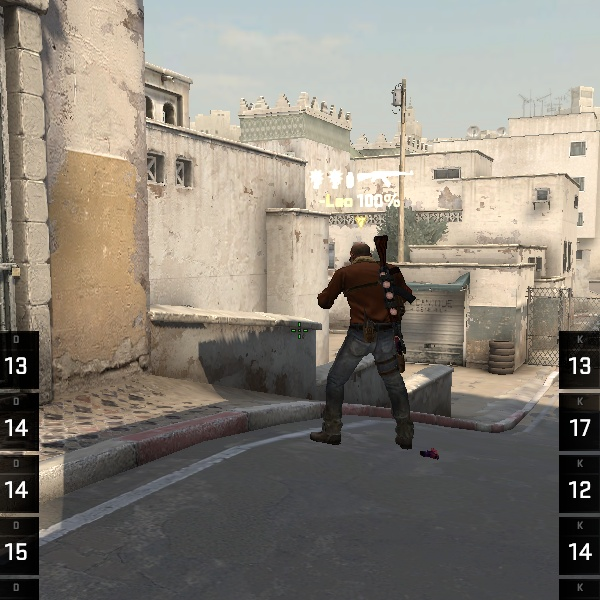t_body: (305, 229, 437, 463)
t_head: (348, 232, 392, 273)
